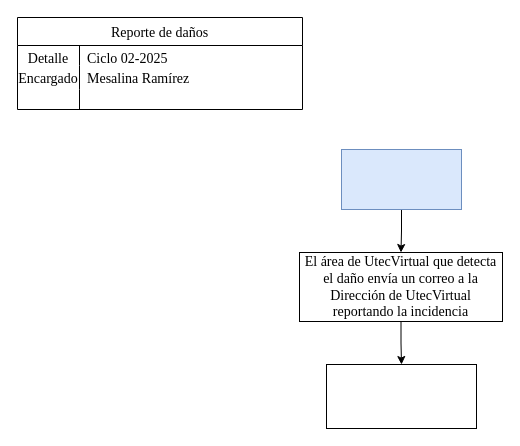
Image size: 520x446. Some labels were removed from this diagram. The shapes that lost their labels are listed below. From the top down, each one's centre as x and y in pixels, then its label:
(x=401, y=179): Reporte de daños a infraestructura
(x=401, y=396): La dirección clasifica el tipo de daño y procede según corresponda
